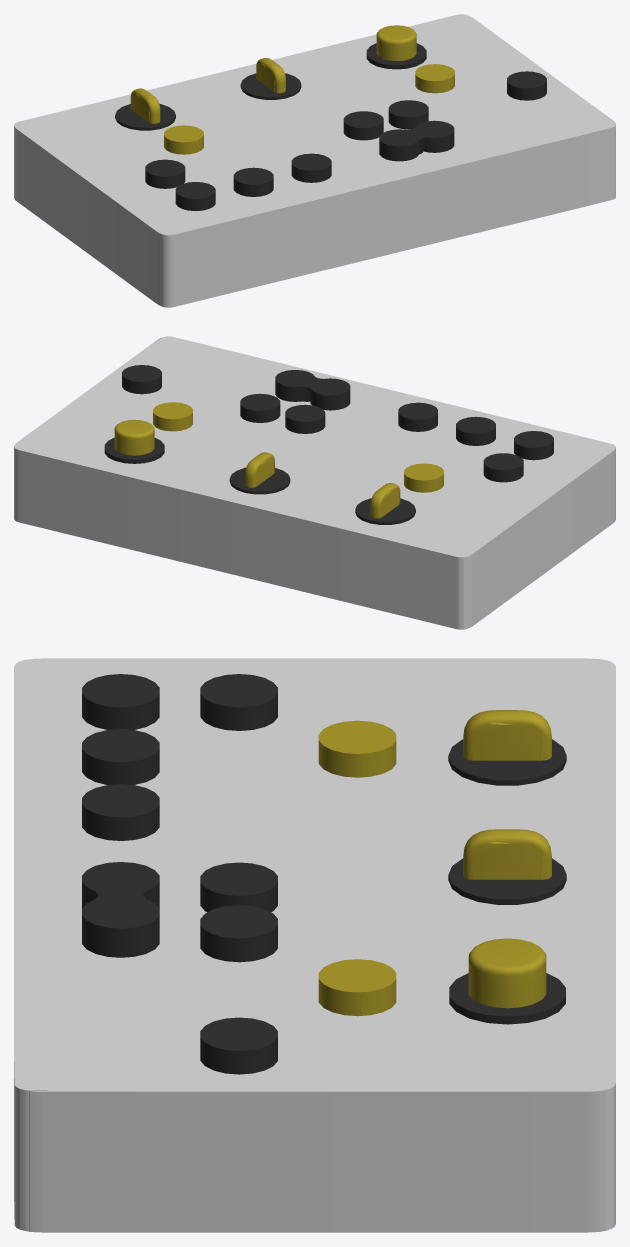
File: panel  right side.FBX
3 views of the same model, one above another, from view 1: azimuth 30°, elevation 25°; view 2: azimuth 150°, elevation 25°; view 3: azimuth 270°, elevation 25° (orthographic). The views are drawn at different scales.
Parts seen in each view (by area): view 1: Control panel, Cylinder004, button 1 (merged), button 2 (merged), button 3, button 4, button 7, button 5, button 6, button 9, button, right button (under joystick) (+6 smaller); view 2: Control panel, Cylinder004, button 1 (merged), button 2 (merged), button 6, button 7, button 8, right button (under joystick), button, button 3, button 4, button 9 (+6 smaller); view 3: Control panel, button 1 (merged), Cylinder004, Box003, Box002, right button (under joystick), button, button 8, button 6, button 9, button 3, button 5 (+6 smaller).
Boxes of the visible parts, x1=… form: Control panel: x1=14, y1=14, x2=615, y2=307; Cylinder004: x1=376, y1=25, x2=416, y2=60; button 1 (merged): x1=393, y1=120, x2=454, y2=152; button 2 (merged): x1=379, y1=129, x2=434, y2=161; button 3: x1=291, y1=153, x2=331, y2=182; button 4: x1=233, y1=167, x2=273, y2=196; button 7: x1=343, y1=111, x2=383, y2=140; button 5: x1=175, y1=182, x2=215, y2=211; button 6: x1=145, y1=159, x2=185, y2=188; button 9: x1=507, y1=71, x2=546, y2=100; button: x1=164, y1=125, x2=203, y2=154; right button (under joystick): x1=415, y1=64, x2=454, y2=93; Control panel: x1=14, y1=336, x2=615, y2=629; Cylinder004: x1=114, y1=419, x2=154, y2=455; button 1 (merged): x1=275, y1=370, x2=336, y2=401; button 2 (merged): x1=295, y1=377, x2=350, y2=410; button 6: x1=483, y1=453, x2=523, y2=482; button 7: x1=285, y1=404, x2=325, y2=433; button 8: x1=240, y1=393, x2=280, y2=422; right button (under joystick): x1=153, y1=402, x2=192, y2=431; button: x1=404, y1=463, x2=443, y2=492; button 3: x1=398, y1=402, x2=437, y2=431; button 4: x1=456, y1=416, x2=495, y2=445; button 9: x1=122, y1=365, x2=161, y2=394; Control panel: x1=14, y1=658, x2=615, y2=1232; button 1 (merged): x1=82, y1=872, x2=159, y2=957; Cylinder004: x1=468, y1=938, x2=546, y2=1008; Box003: x1=463, y1=710, x2=551, y2=760; Box002: x1=463, y1=829, x2=551, y2=879; right button (under joystick): x1=318, y1=959, x2=396, y2=1016; button: x1=318, y1=720, x2=396, y2=777; button 8: x1=200, y1=905, x2=277, y2=962; button 6: x1=200, y1=674, x2=277, y2=730; button 9: x1=200, y1=1017, x2=277, y2=1074; button 3: x1=82, y1=784, x2=159, y2=840; button 5: x1=82, y1=674, x2=159, y2=729.
Bounding box in the file's own units: 25.98 × 5.31 × 15.26.
